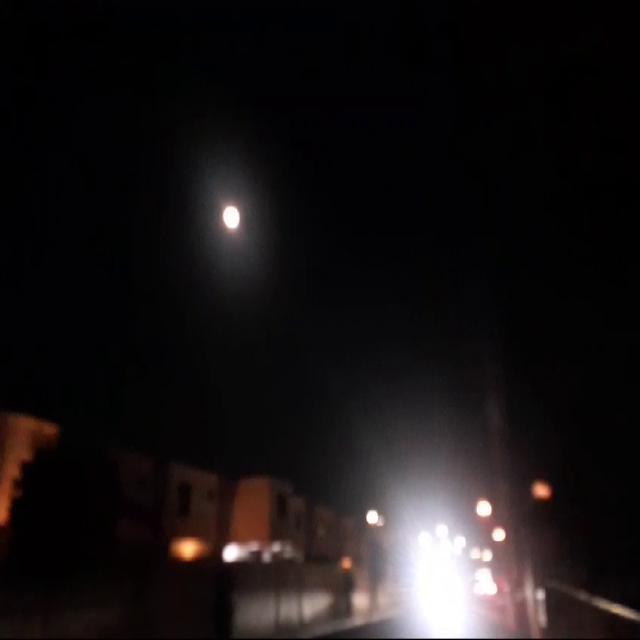moon: (222, 202, 240, 236)
